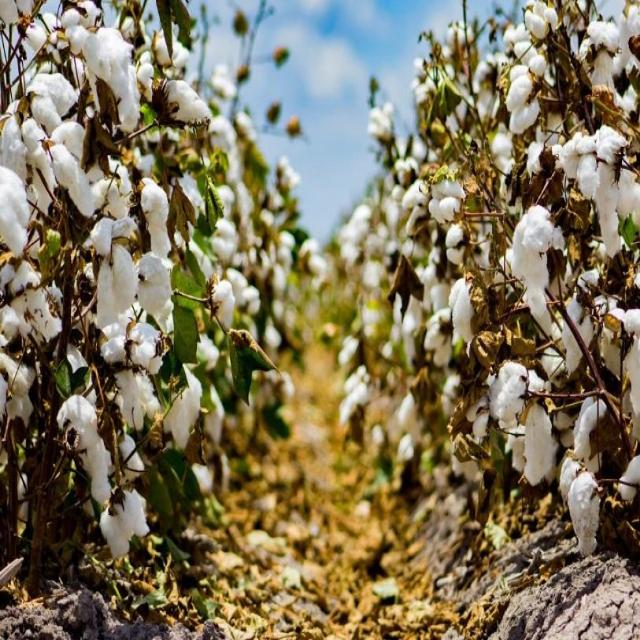row: (84, 334, 517, 635)
